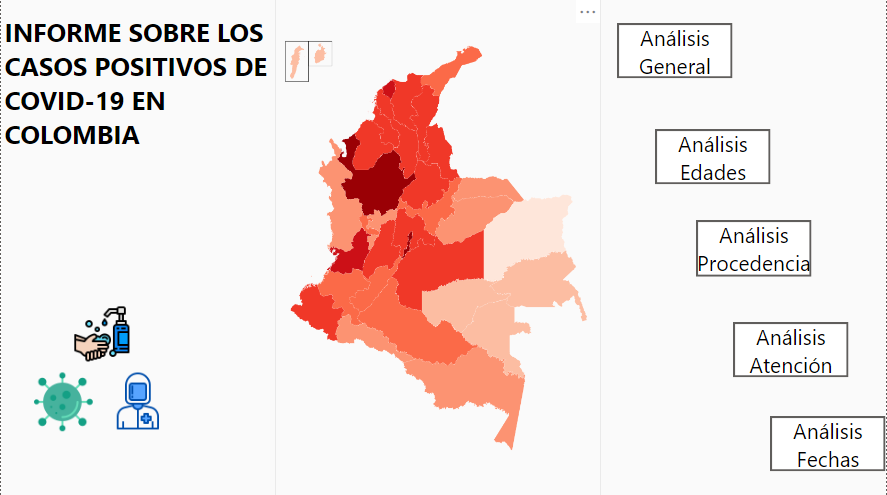

This screenshot's page, from the dashboard's own definition file:
{"tool":"powerbi","page":{"name":"Menú","canvas":[1280,720],"ordinal":0},"visuals":[{"type":"textbox","box":[0,0,1279.5,720],"z":0},{"type":"textbox","box":[0,0,396.1,228.4],"z":1000},{"type":"actionButton","box":[890.4,34.2,167.5,80.3],"z":2000},{"type":"actionButton","box":[945,188,167.5,80.3],"z":3000},{"type":"actionButton","box":[1057.8,466.5,167.5,80.3],"z":4000},{"type":"actionButton","box":[1112.5,603.3,167.5,80.3],"z":5000},{"type":"actionButton","box":[1004.9,319.6,167.5,82],"z":6000},{"type":"image","box":[396.5,0,471.7,719.5],"z":7000},{"type":"image","box":[34.7,534.9,111.3,95.4],"z":8000},{"type":"image","box":[98.3,433.7,95.4,101.2],"z":9000},{"type":"image","box":[150.4,530.6,95.4,99.8],"z":10000}]}

Visuals, with their boxes in screenshot pixels (x1, y1, x2, y2), scaled from the page's 1280x720 canvas onto the 887x495 screenshot:
textbox: [x1=0, y1=0, x2=886, y2=494]
textbox: [x1=0, y1=0, x2=274, y2=157]
actionButton: [x1=617, y1=24, x2=733, y2=79]
actionButton: [x1=655, y1=129, x2=771, y2=184]
actionButton: [x1=733, y1=321, x2=849, y2=376]
actionButton: [x1=771, y1=415, x2=886, y2=470]
actionButton: [x1=696, y1=220, x2=812, y2=276]
image: [x1=275, y1=0, x2=602, y2=494]
image: [x1=24, y1=368, x2=101, y2=433]
image: [x1=68, y1=298, x2=134, y2=368]
image: [x1=104, y1=365, x2=170, y2=433]
